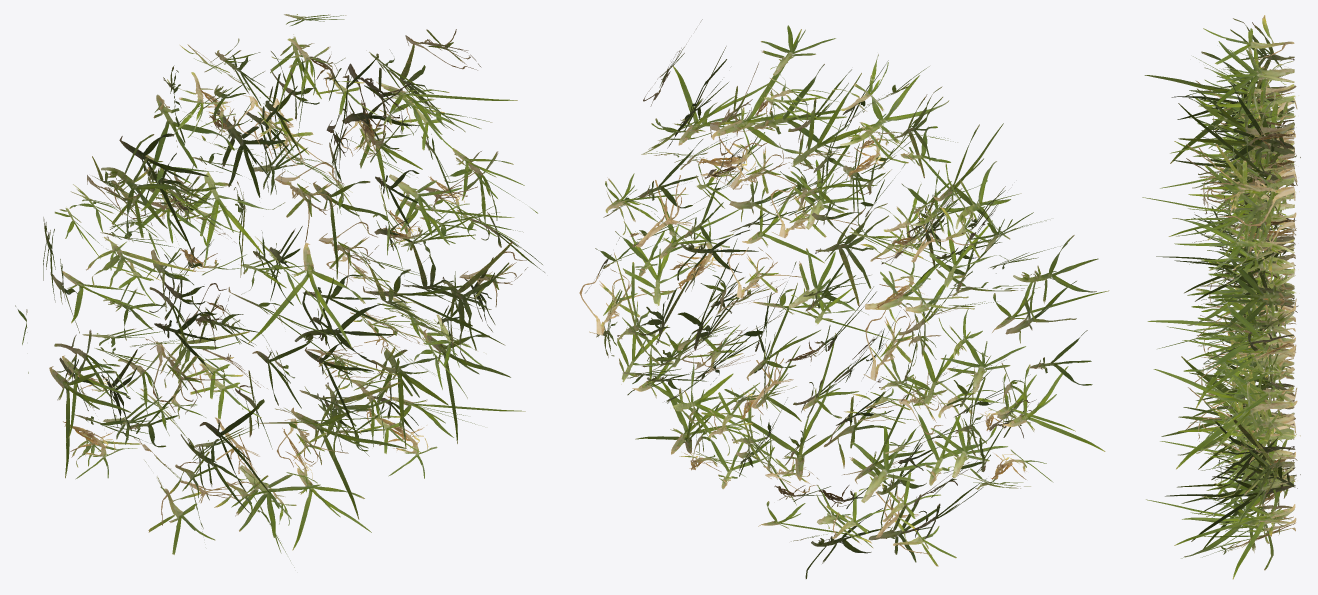
File: Grass_01_Var1_LOD1.fbx
3 renders of one model, left to right at view 1: azimuth 30°, elevation 25°; view 2: azimuth 150°, elevation 25°; view 3: azimuth 270°, elevation 25°, orthographic. The views are drawn at different scales.
Parts seen in each view (by area): view 1: Var1_LOD1; view 2: Var1_LOD1; view 3: Var1_LOD1.
Boxes of the visible parts, x1,y1,x2,y2 form: Var1_LOD1: (15, 14, 544, 567); Var1_LOD1: (579, 19, 1109, 578); Var1_LOD1: (1142, 15, 1300, 579).
Size of the model in its own units: 85.45 by 85.27 by 24.38.
